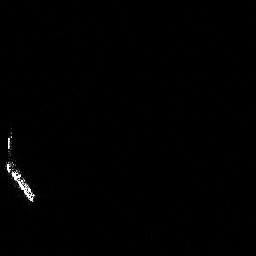ship: (2, 129, 40, 206)
